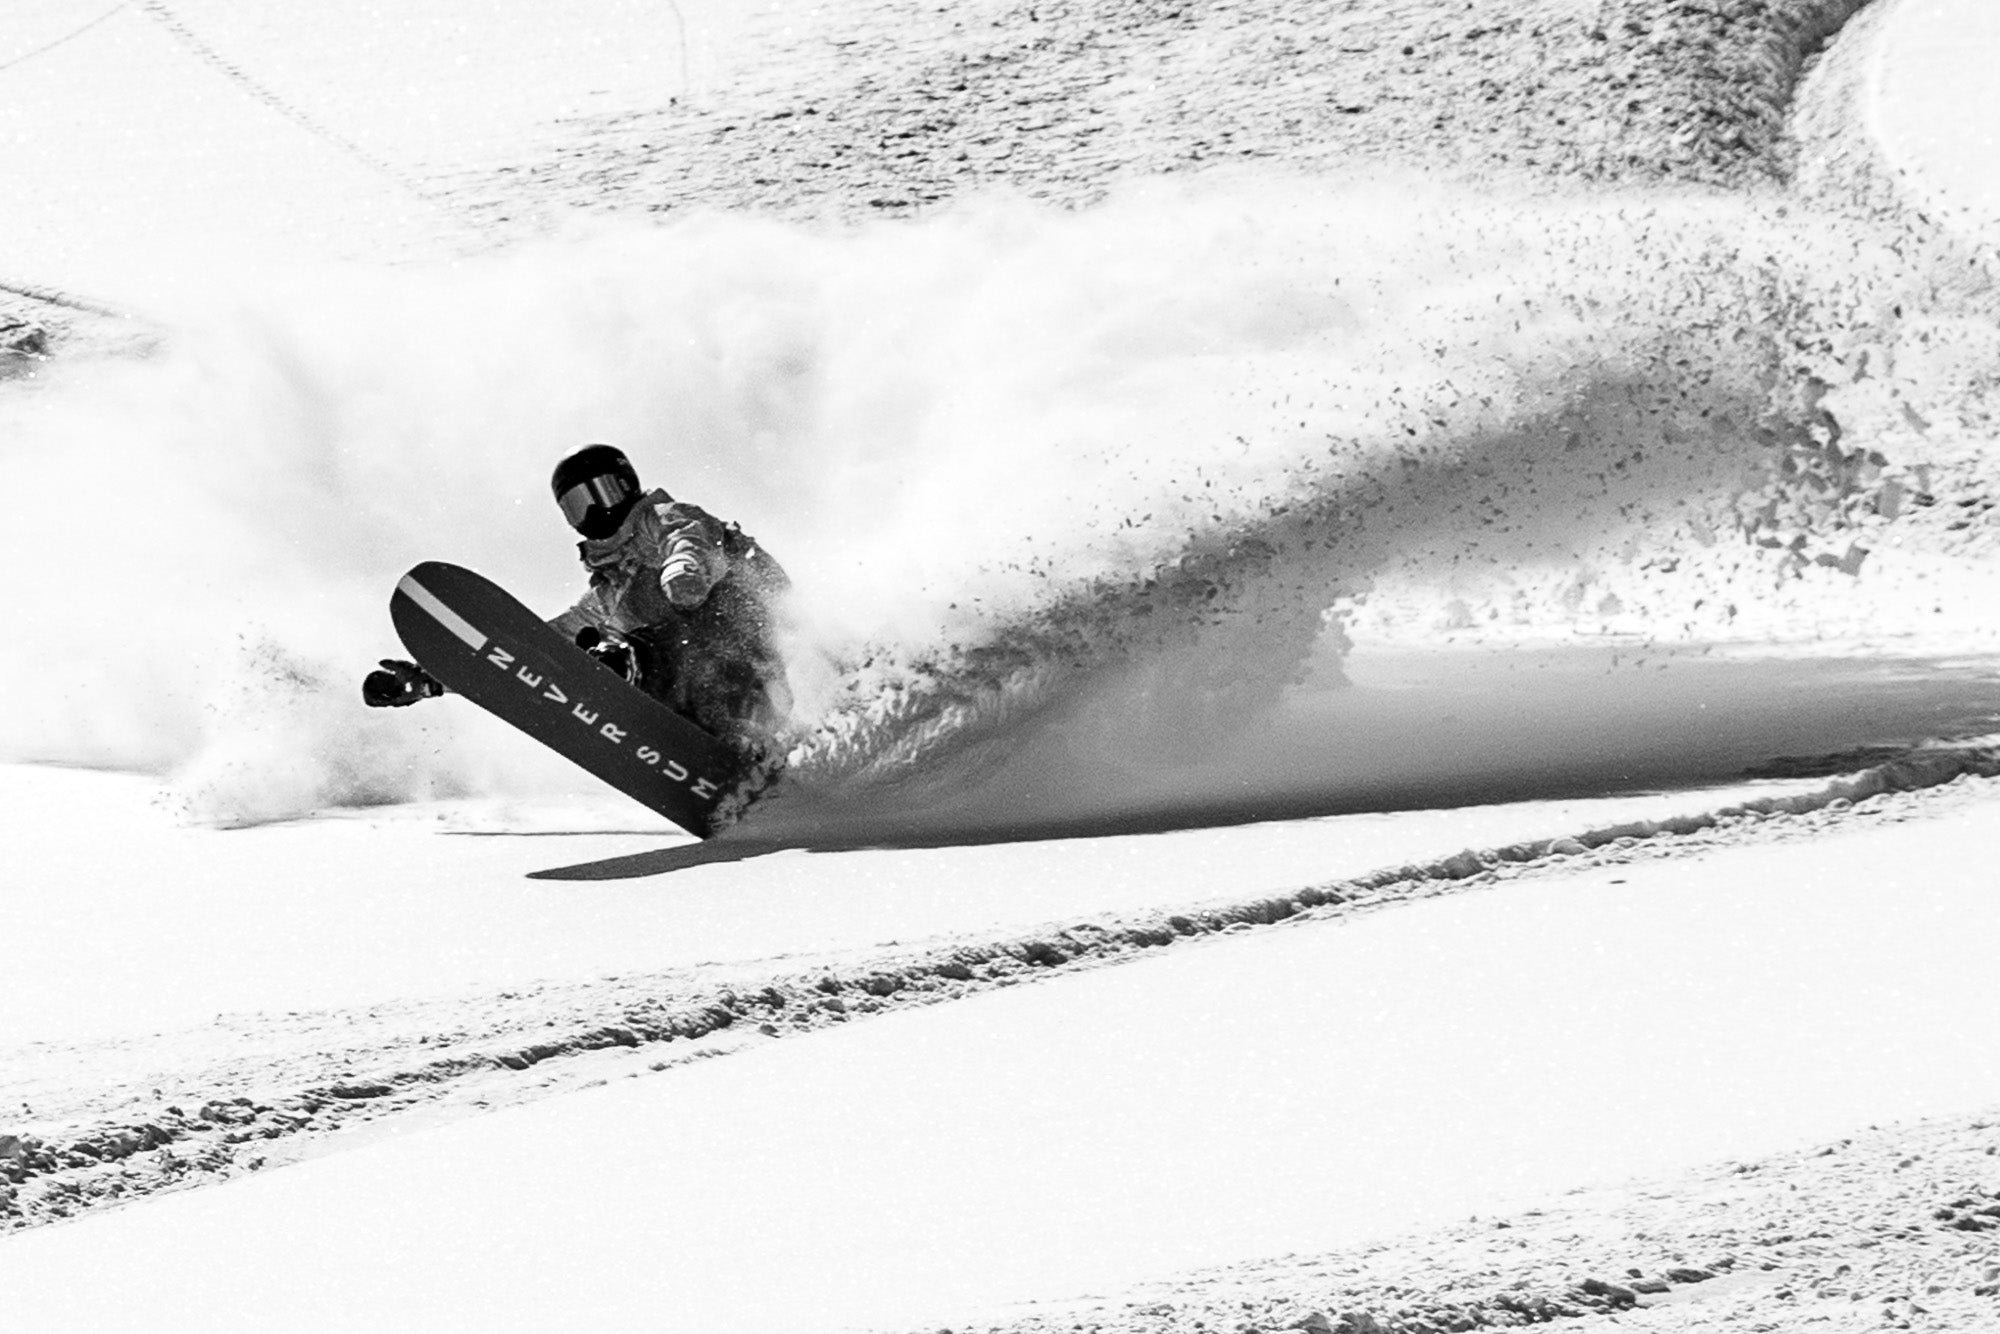snowboarder: (351, 436, 868, 847)
